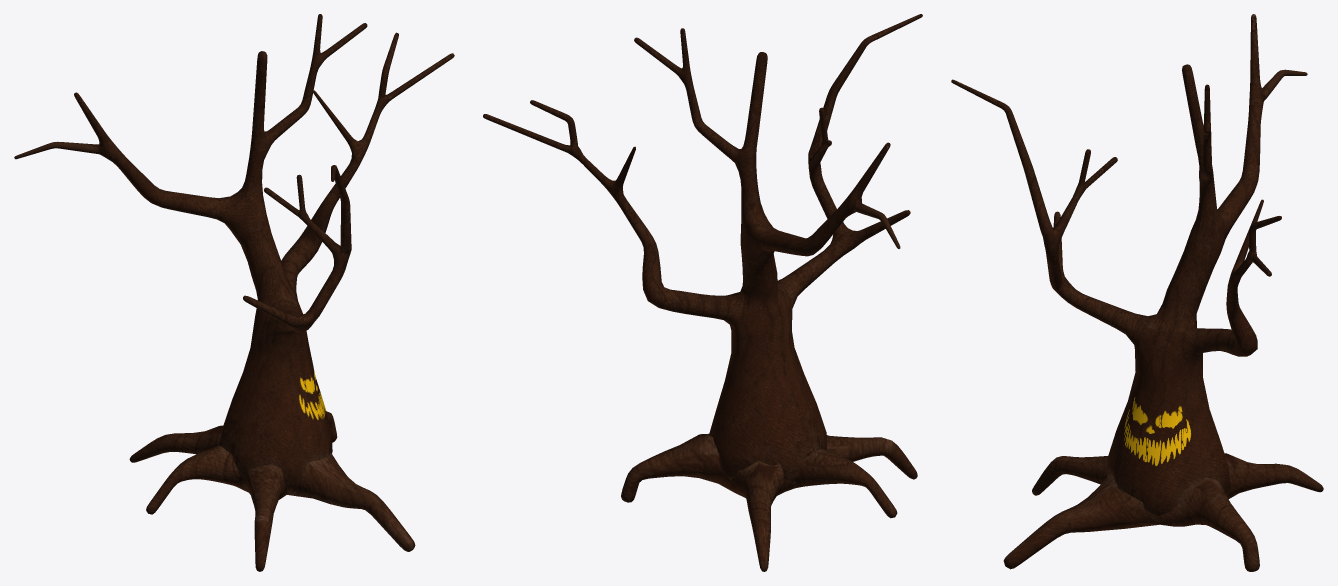
The model's file is RI_Tree_3V.fbx.
The picture shows the model from 3 angles, left to right: view 1: azimuth 30°, elevation 25°; view 2: azimuth 150°, elevation 25°; view 3: azimuth 270°, elevation 25°; orthographic projection. The views are drawn at different scales.
Visible parts, largest first — view 1: Cube.005; view 2: Cube.005; view 3: Cube.005.
Boxes of the visible parts, x1,y1,x2,y2 form: Cube.005: (14, 14, 454, 571); Cube.005: (483, 14, 922, 571); Cube.005: (951, 14, 1323, 571).
Size of the model in its own units: 16.16 by 17.07 by 11.84.
